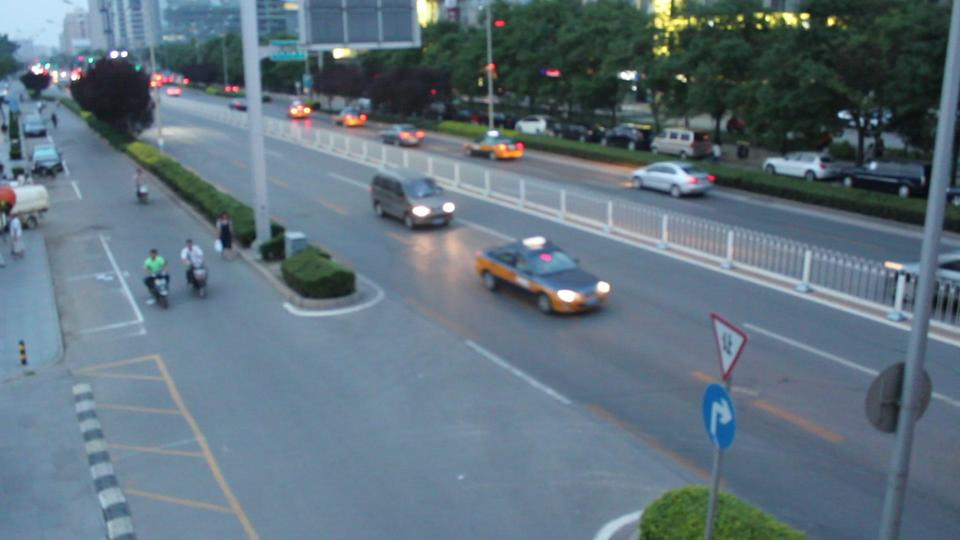bicycle: (187, 266, 208, 298)
car: (473, 235, 613, 315), (367, 167, 458, 229), (884, 249, 960, 318), (840, 159, 930, 198), (625, 161, 717, 198), (761, 150, 855, 182), (1, 181, 51, 230), (461, 132, 526, 161), (17, 139, 64, 177), (651, 129, 697, 158), (380, 124, 427, 147), (332, 109, 370, 128), (288, 101, 319, 119), (164, 85, 182, 97)
person: (142, 248, 170, 309), (179, 238, 207, 296), (260, 219, 287, 262), (216, 213, 234, 254)
sign: (698, 377, 742, 459), (711, 311, 753, 380)
traffic light: (492, 18, 509, 34)
